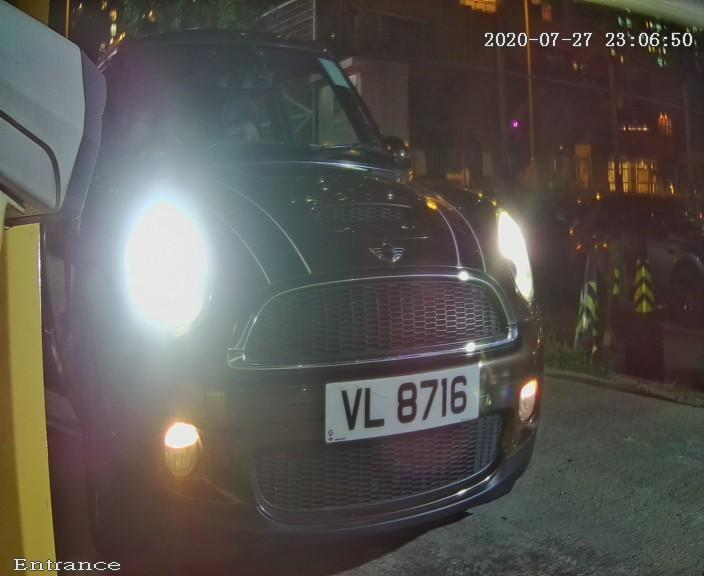privatecar: (38, 1, 585, 576)
